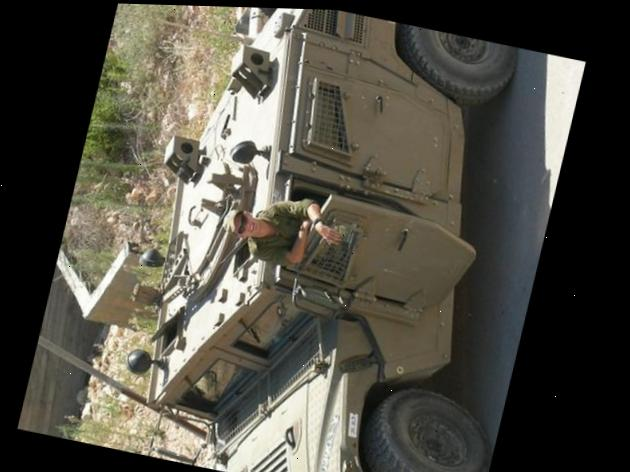armored_car: (85, 3, 576, 472)
